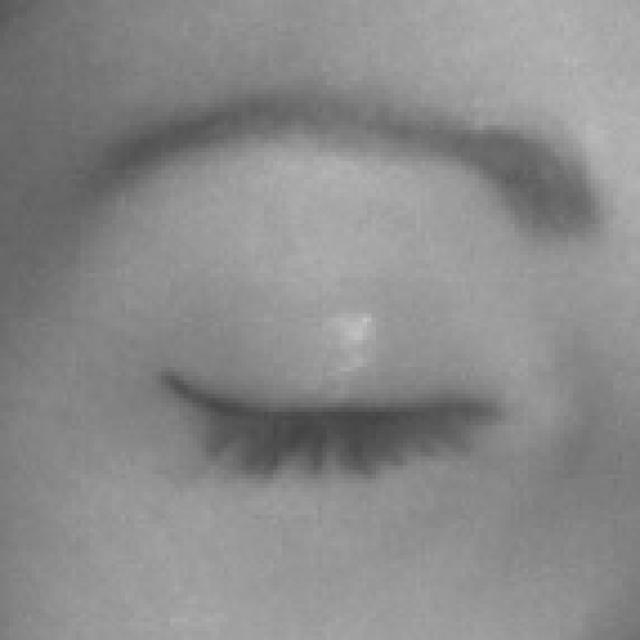close: (0, 71, 610, 575)
